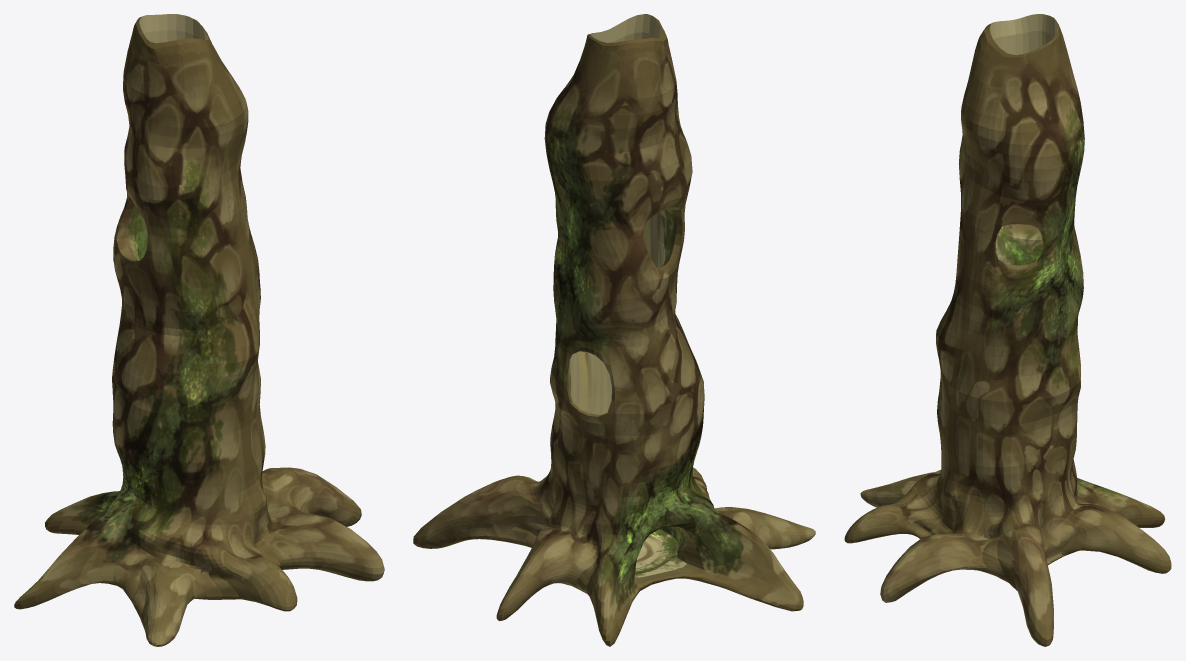
The model's file is bigtree.fbx.
3 views of the same model, side by side, from view 1: azimuth 30°, elevation 25°; view 2: azimuth 150°, elevation 25°; view 3: azimuth 270°, elevation 25° (orthographic). The views are drawn at different scales.
Parts seen in each view (by area): view 1: pCylinder9; view 2: pCylinder9; view 3: pCylinder9.
Part boxes in pixels (x1=…): pCylinder9: x1=14, y1=14, x2=384, y2=646; pCylinder9: x1=413, y1=14, x2=815, y2=646; pCylinder9: x1=844, y1=14, x2=1171, y2=646.
Size of the model in its own units: 2221 by 3216 by 1793.
Materials: 1 (1 with a texture image).
